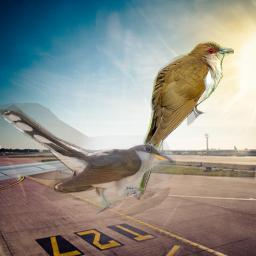Cuckoo: (0, 103, 176, 216), (138, 40, 234, 201)
